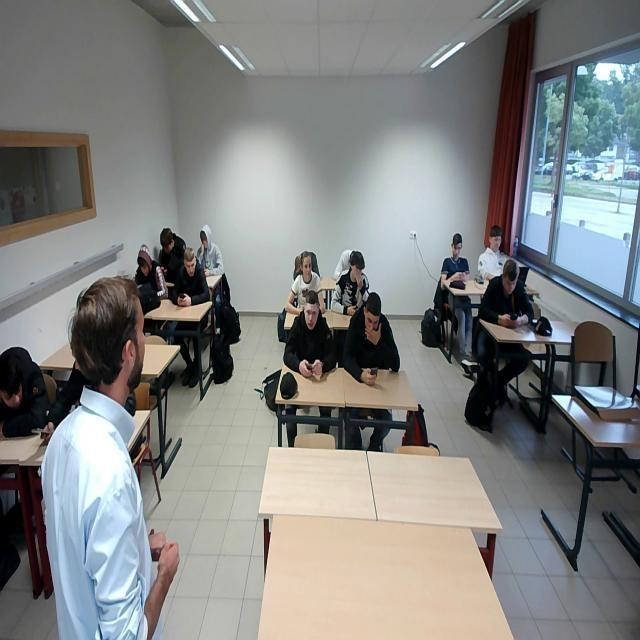phone_use: (342, 291, 398, 383), (282, 290, 334, 376), (477, 267, 531, 322), (170, 247, 208, 304), (157, 227, 184, 281), (440, 232, 467, 279)
